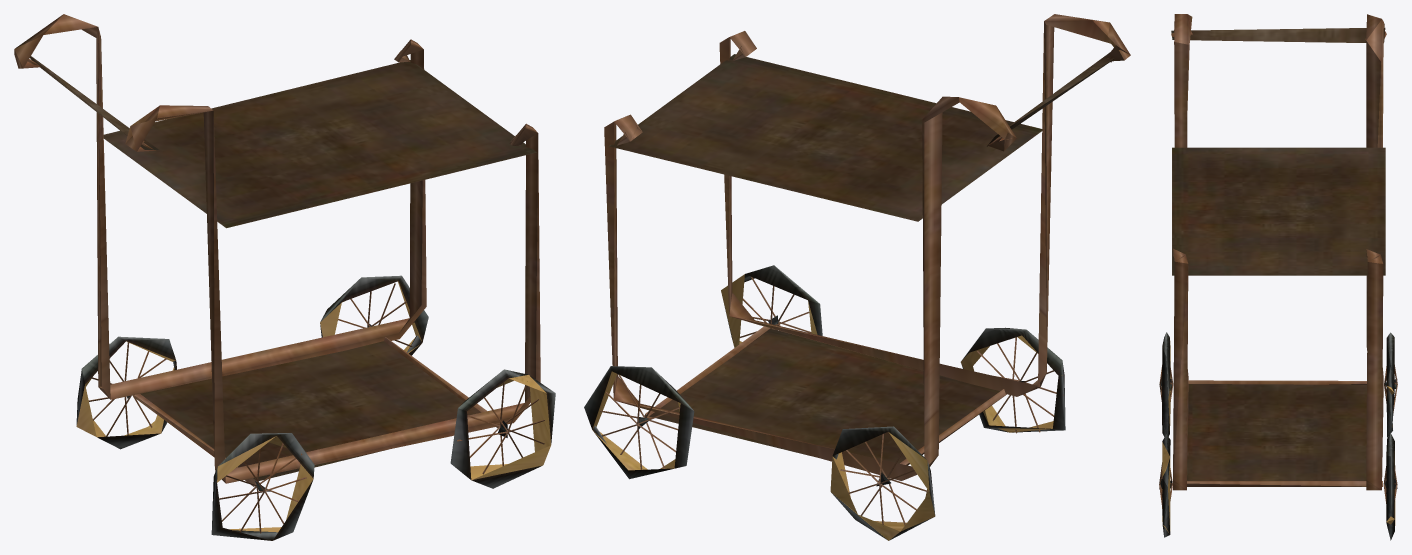
File: handcart.lod1.glb
The picture shows the model from 3 angles, left to right: view 1: azimuth 30°, elevation 25°; view 2: azimuth 150°, elevation 25°; view 3: azimuth 270°, elevation 25°; orthographic projection. The views are drawn at different scales.
Visible parts, largest first — view 1: handcart; view 2: handcart; view 3: handcart.
Boxes of the visible parts, x1,y1,x2,y2 form: handcart: [14, 14, 555, 540]; handcart: [584, 14, 1130, 540]; handcart: [1159, 14, 1397, 540].
Size of the model in its own units: 1.1 by 1.14 by 0.6372.
1 material, 1 textured.
